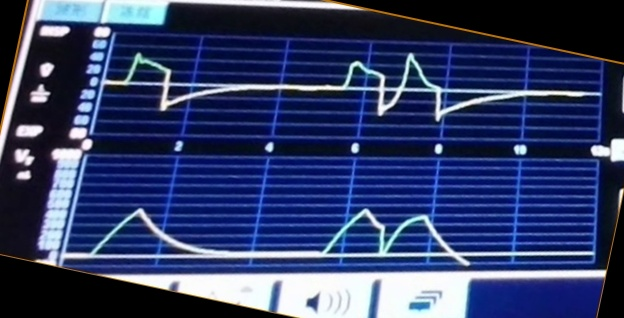Double_Triggering Flow: (112, 48, 539, 135)
Double_Triggering Volume: (78, 195, 497, 270)
